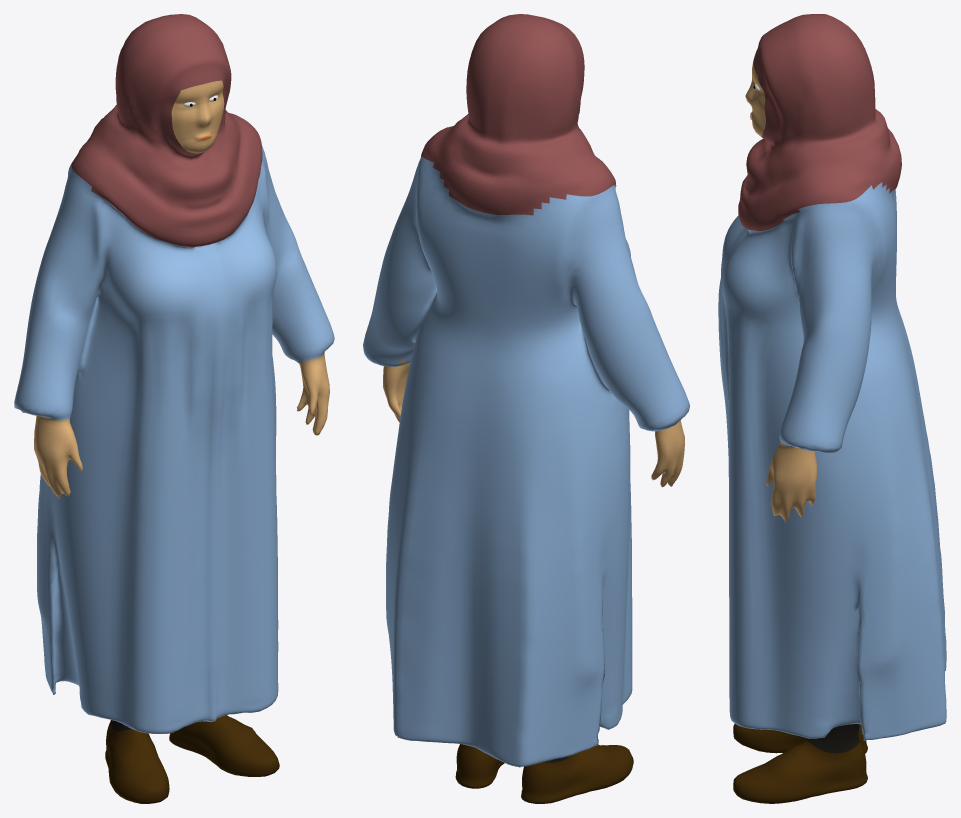
File: colored.fbx
3 views of the same model, side by side, from view 1: azimuth 30°, elevation 25°; view 2: azimuth 150°, elevation 25°; view 3: azimuth 270°, elevation 25° (orthographic). The views are drawn at different scales.
Parts seen in each view (by area): view 1: character.body, character.face; view 2: character.body; view 3: character.body, character.face.
Boxes of the visible parts, <box> form: character.body: <box>14,14,334,803</box>; character.face: <box>171,80,224,153</box>; character.body: <box>363,14,689,803</box>; character.body: <box>718,14,946,803</box>; character.face: <box>745,62,765,136</box>.
Bounding box in the file's own units: 83.62 × 191 × 52.78.
